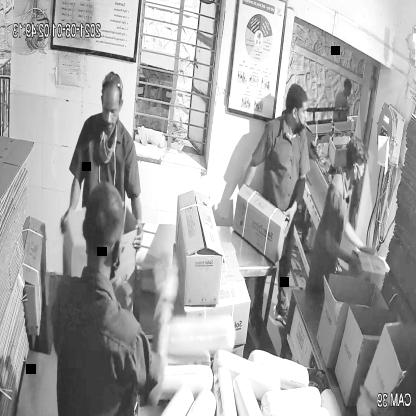no_goggles: (98, 96, 125, 124)
